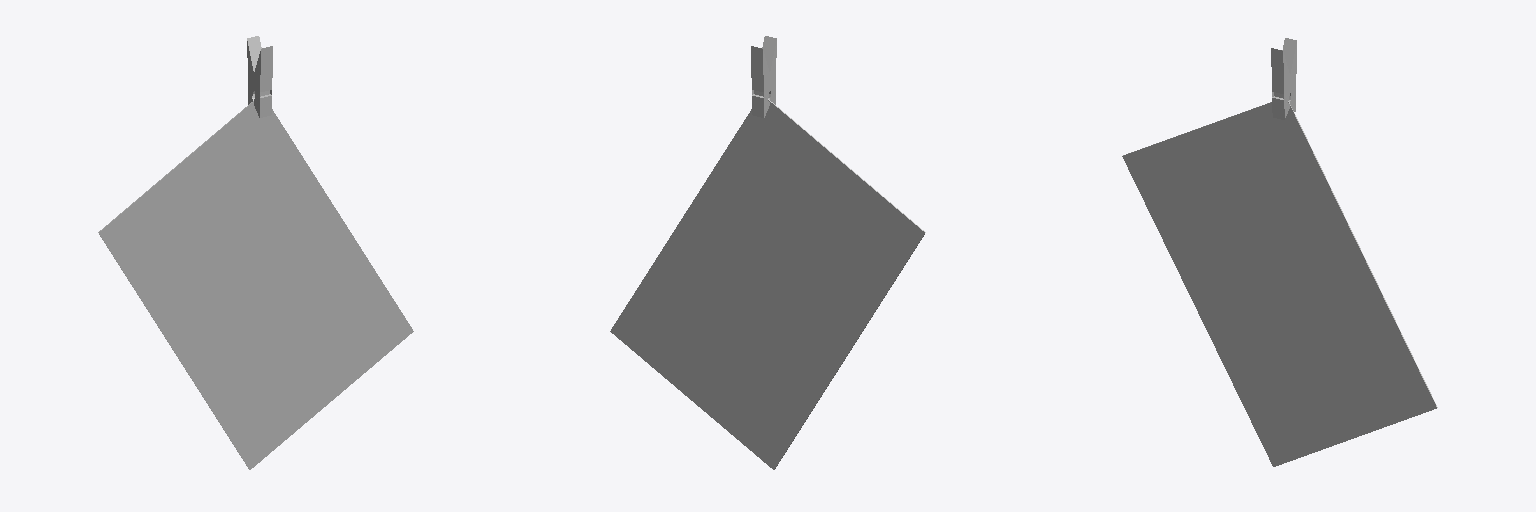
Rendered from Clip_wPhoto_2.obj.
The picture shows the model from 3 angles: view 1: azimuth 30°, elevation 25°; view 2: azimuth 150°, elevation 25°; view 3: azimuth 330°, elevation 25°; orthographic projection.
Visible parts, largest first — view 1: pCube2, Wooden_Clip:Wooden_Clip; view 2: pCube2, Wooden_Clip:Wooden_Clip; view 3: pCube2, Wooden_Clip:Wooden_Clip.
Boxes of the visible parts, <box> form: pCube2: <box>98,101,413,469</box>; Wooden_Clip:Wooden_Clip: <box>247,36,272,117</box>; pCube2: <box>610,99,925,469</box>; Wooden_Clip:Wooden_Clip: <box>751,36,776,117</box>; pCube2: <box>1122,101,1437,466</box>; Wooden_Clip:Wooden_Clip: <box>1271,38,1296,119</box>.
Bounding box in the file's own units: 99 × 128 × 7.6.